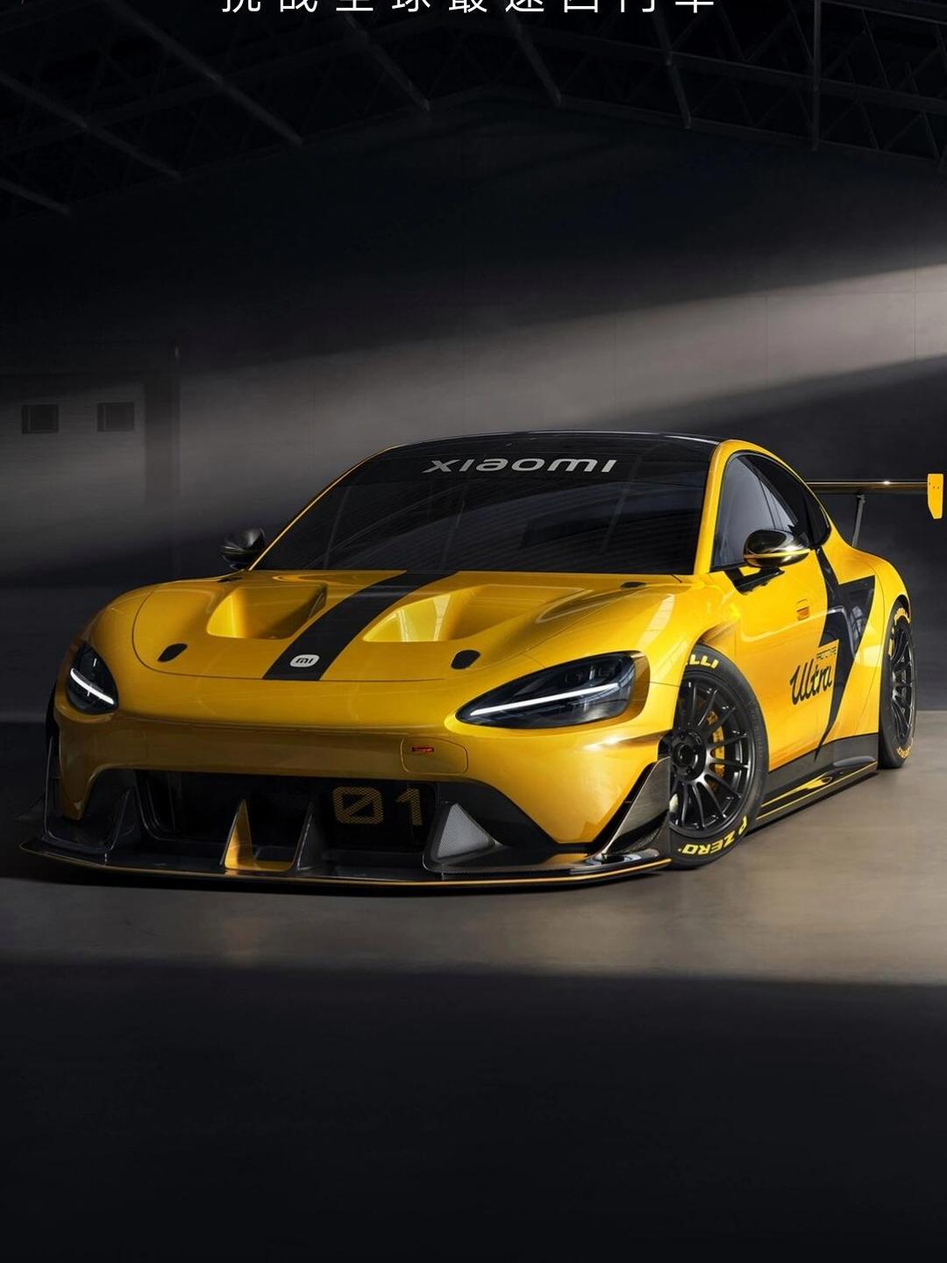su7: (42, 421, 947, 896)
